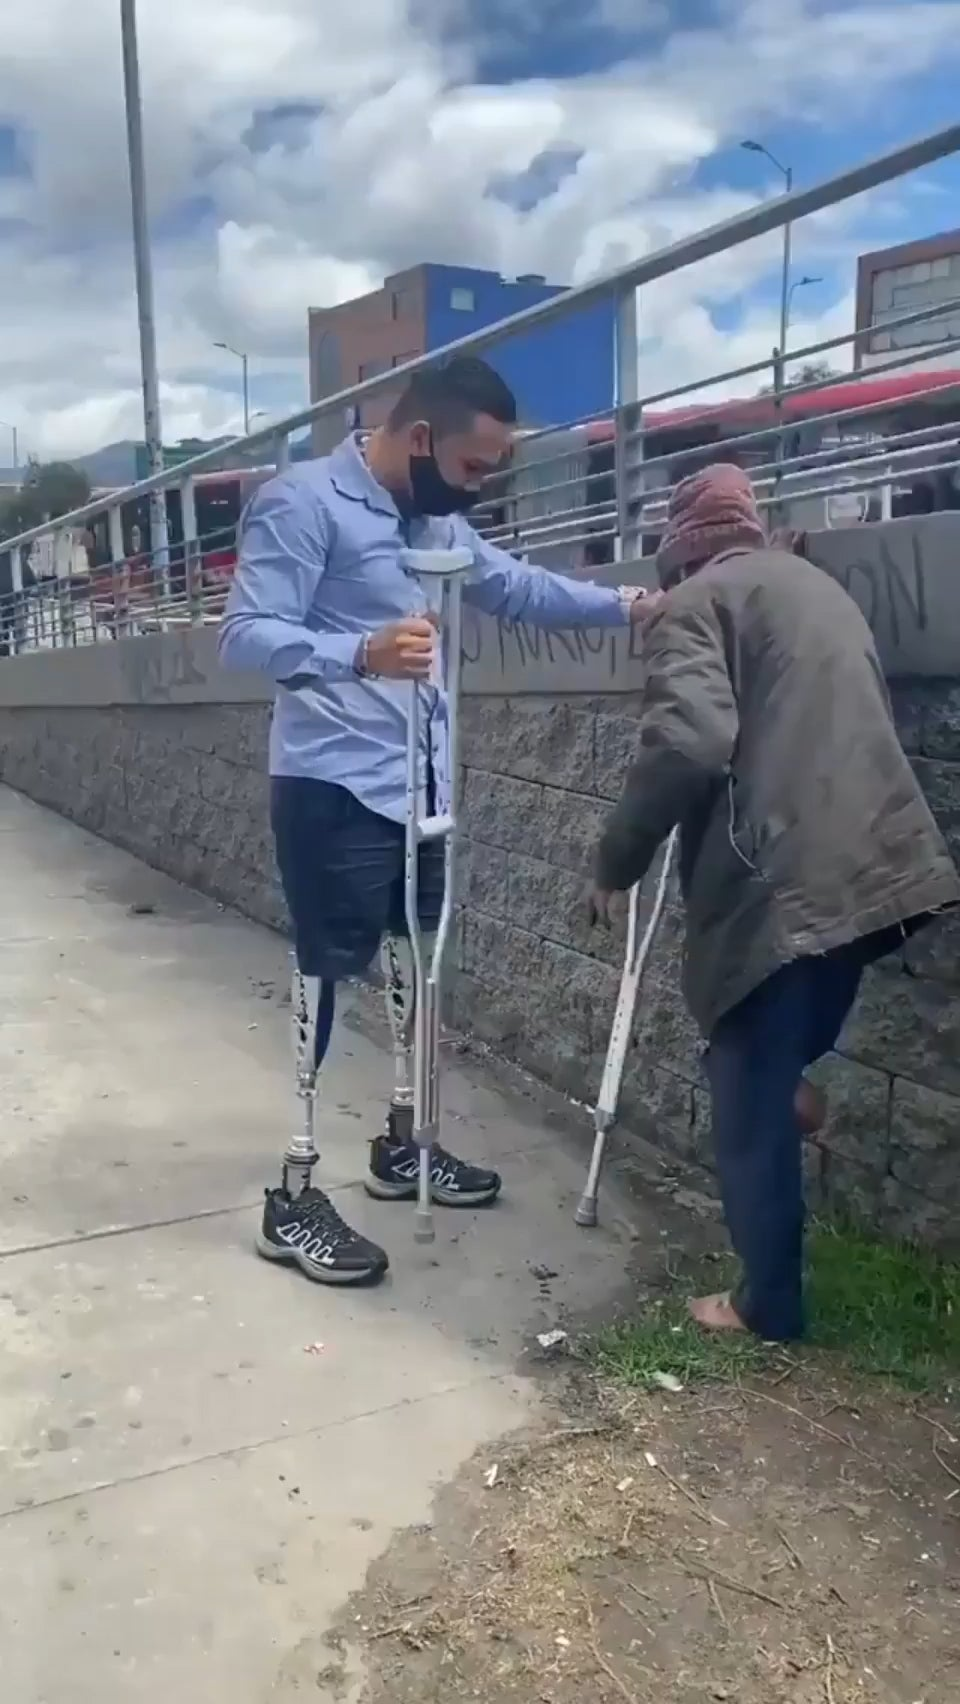crutches: (210, 350, 603, 1284)
